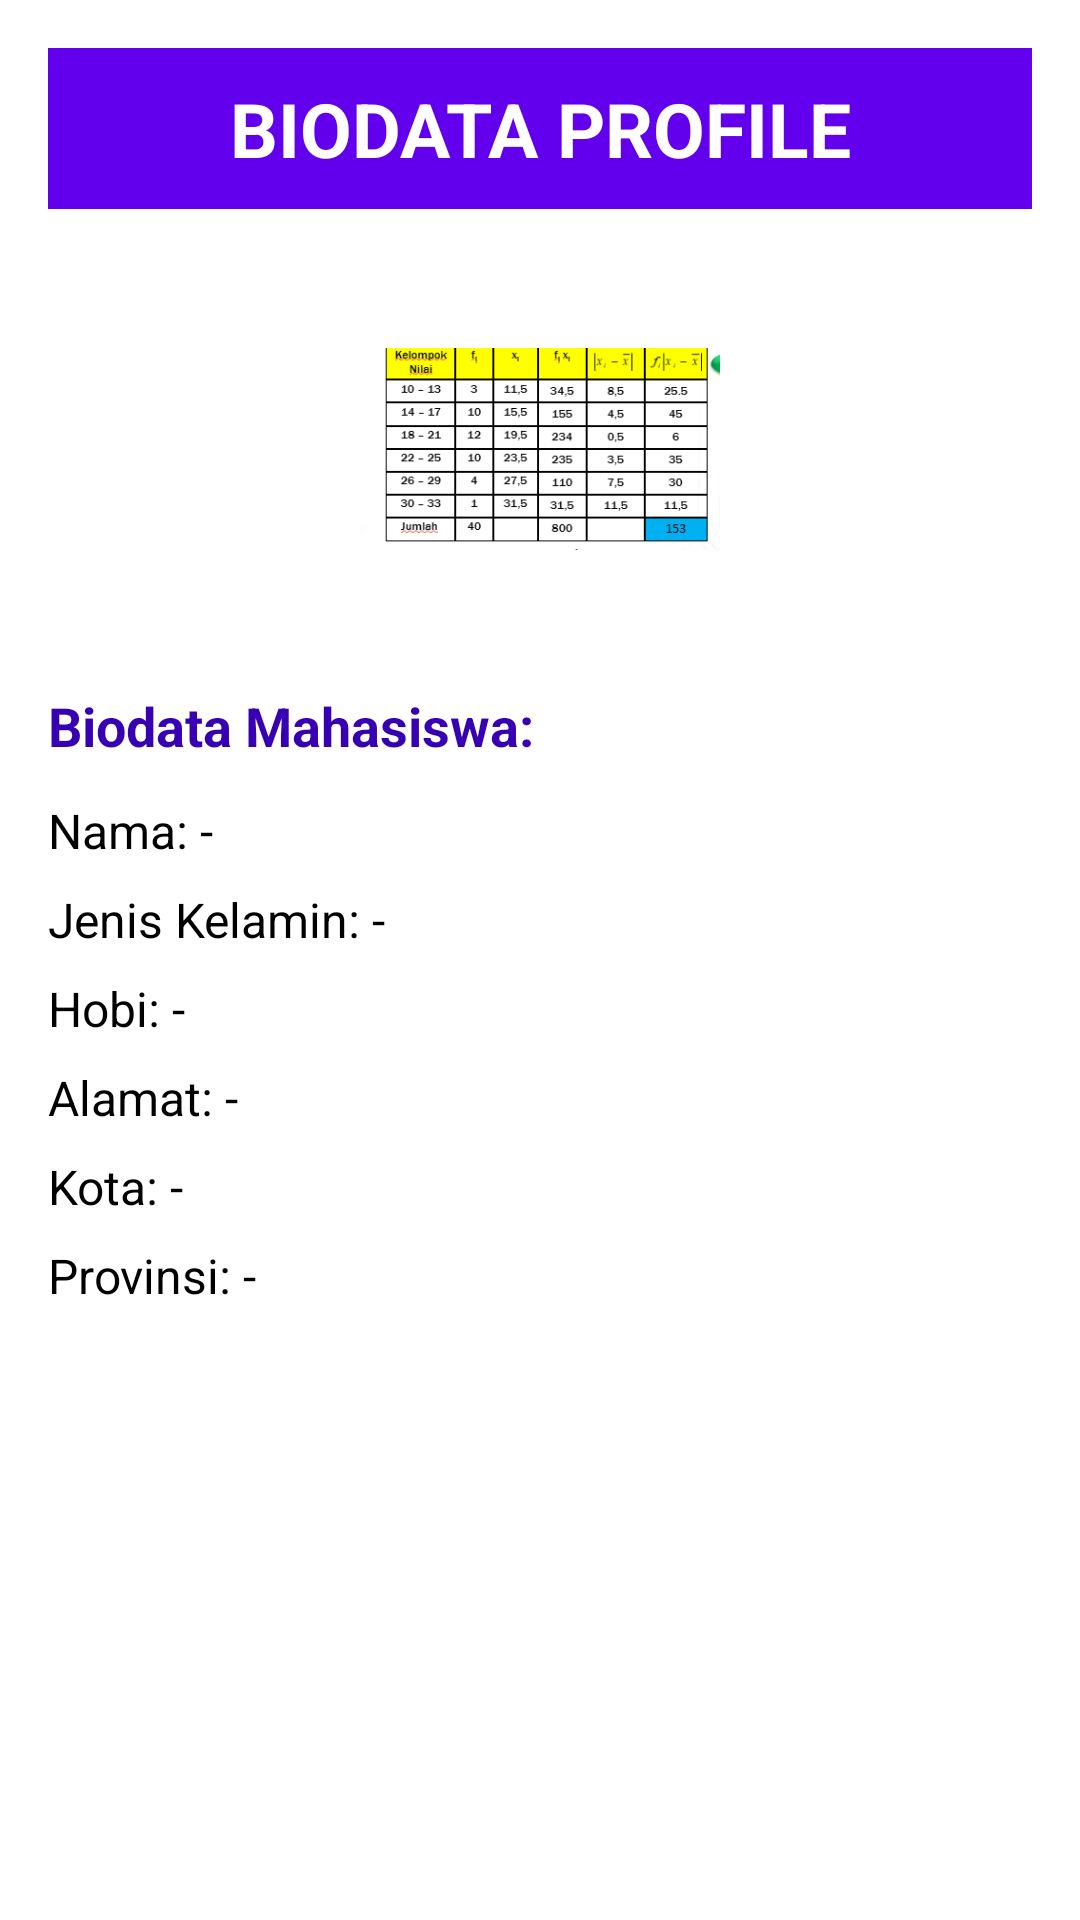

Icons on this 1080 x 1920 Android screen, each with the point to tap as (x=x, y=y):
foto: (x=552, y=449)
